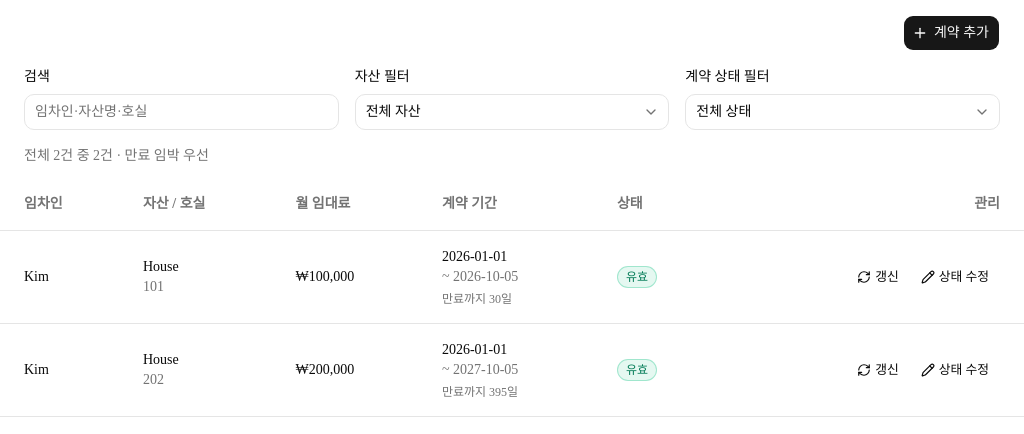
searches by unit and reports empty results
Type "missing" into the field labelled "검색" at coordinates (181, 112), box [24,94,339,130]
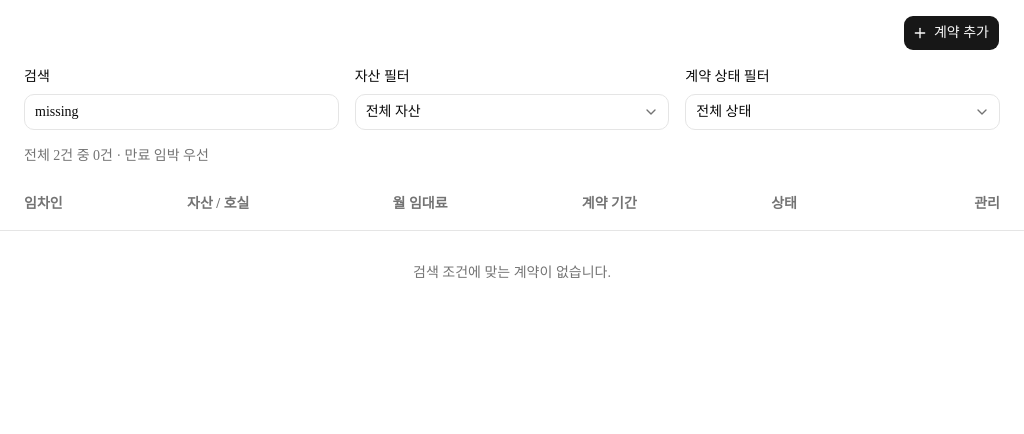
Result: the text "101" is gone
Result: the text "검색 조건에 맞는 계약이 없습니다." is shown at [0,231,1023,315]
